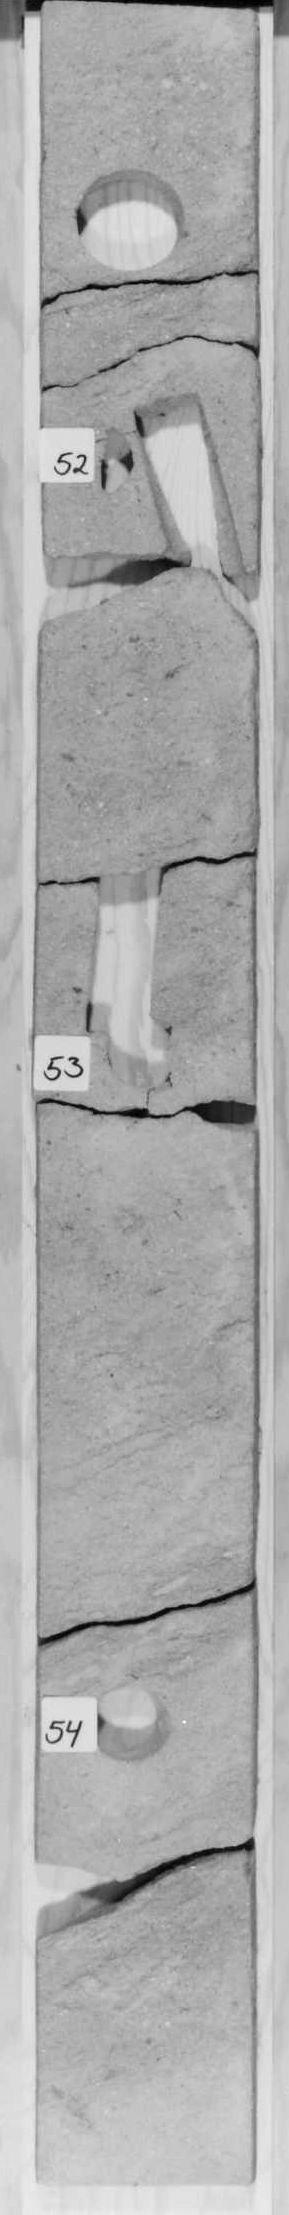hplug: (86, 1668, 175, 1766), (104, 1017, 190, 1096), (89, 410, 142, 499)
scal: (61, 158, 204, 283), (37, 1851, 140, 1956)
vplug: (131, 390, 252, 576), (72, 860, 178, 1037)
